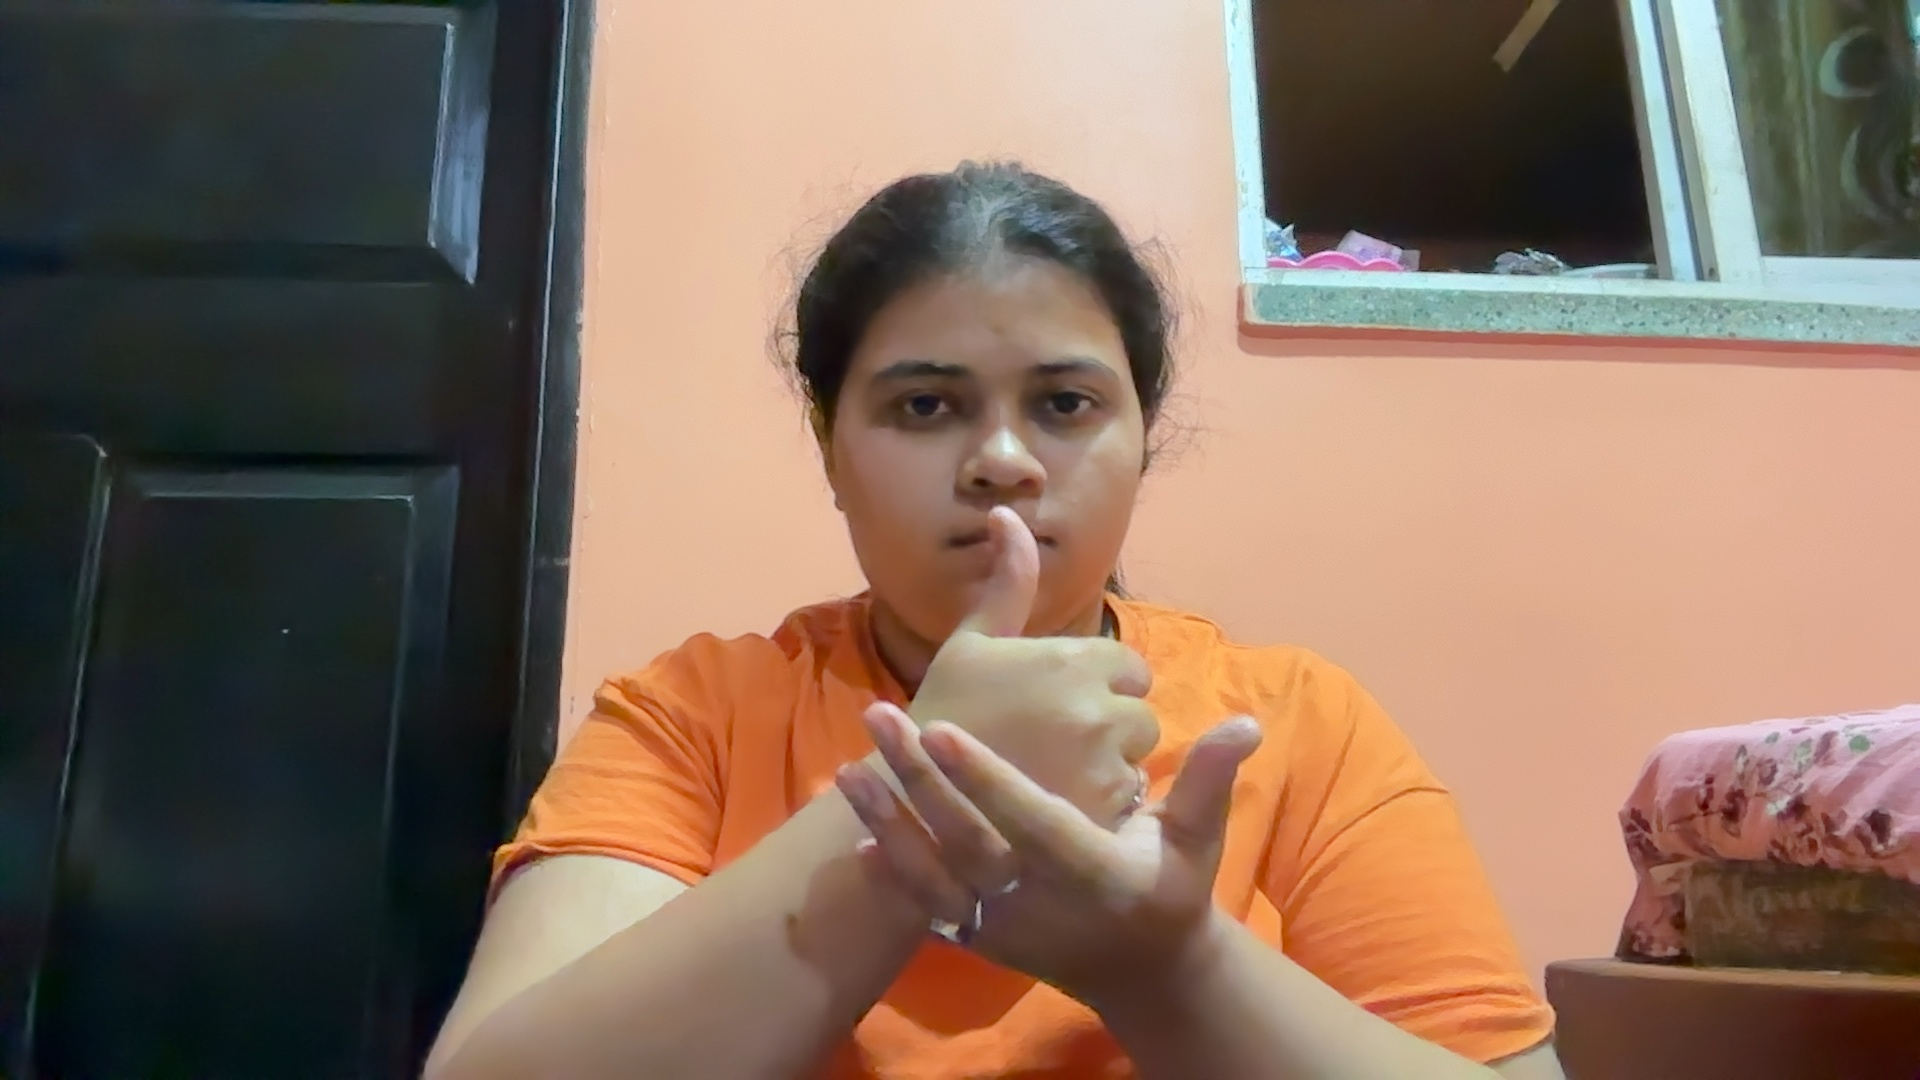help: (800, 502, 1298, 986)
